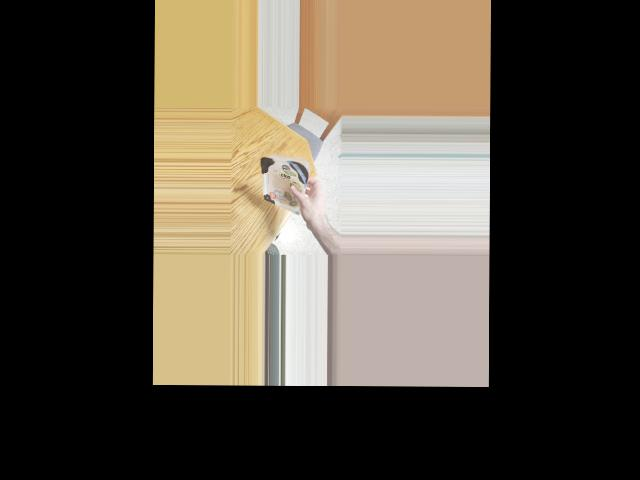cheese: (263, 151, 311, 203)
